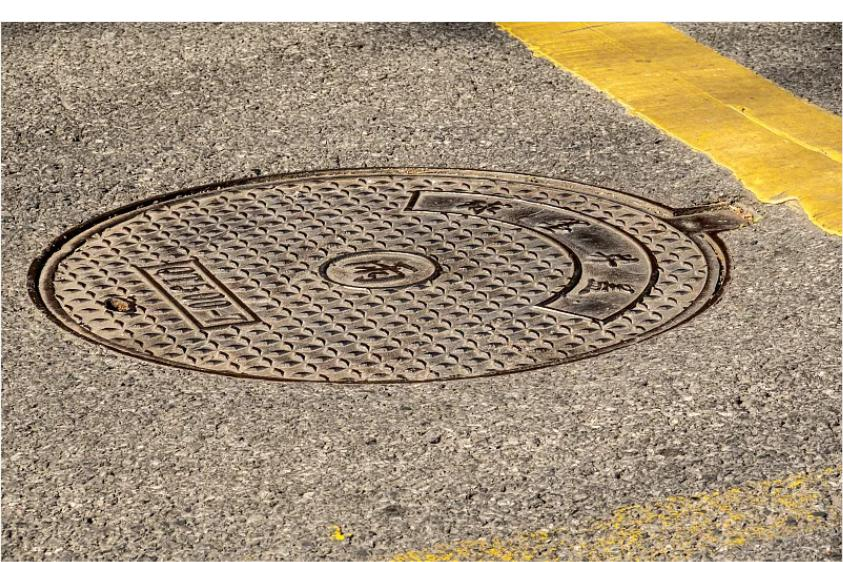wellcover: (40, 154, 769, 390)
